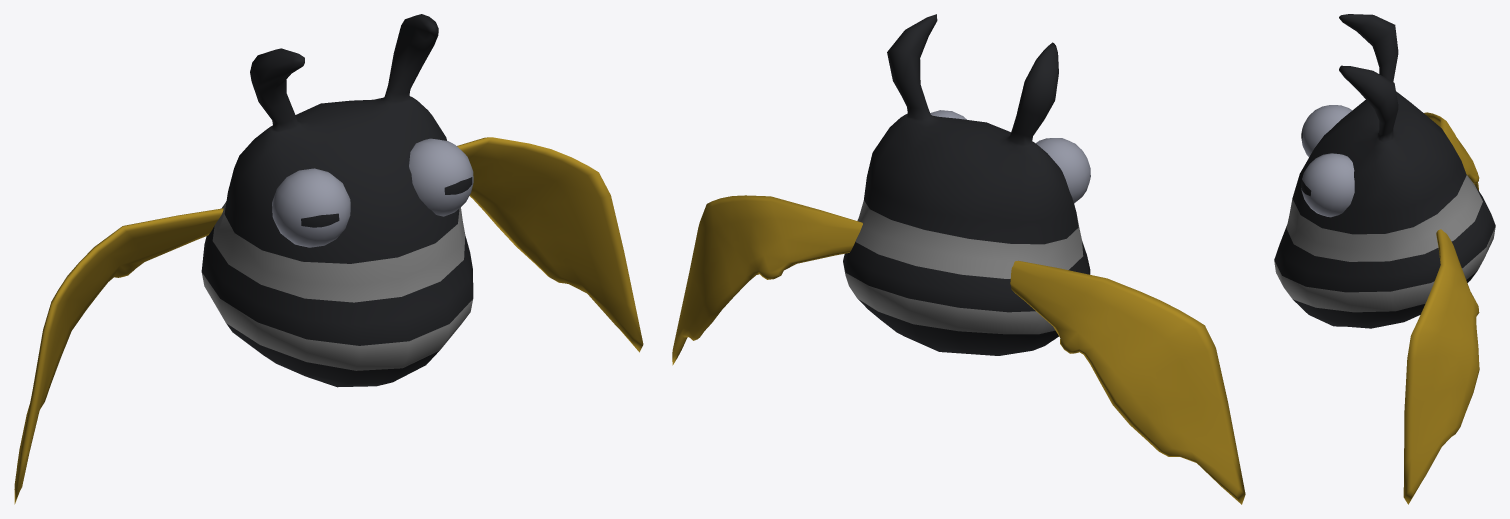
Rendered from Armabee.obj.
3 views of the same model, side by side, from view 1: azimuth 30°, elevation 25°; view 2: azimuth 150°, elevation 25°; view 3: azimuth 270°, elevation 25° (orthographic). The views are drawn at different scales.
Parts seen in each view (by area): view 1: Armabee_Sphere.018; view 2: Armabee_Sphere.018; view 3: Armabee_Sphere.018.
Boxes of the visible parts, bbox=[...] form: Armabee_Sphere.018: bbox=[14, 14, 643, 504]; Armabee_Sphere.018: bbox=[672, 14, 1245, 504]; Armabee_Sphere.018: bbox=[1274, 14, 1495, 504].
Size of the model in its own units: 3.69 by 2.34 by 1.38.
